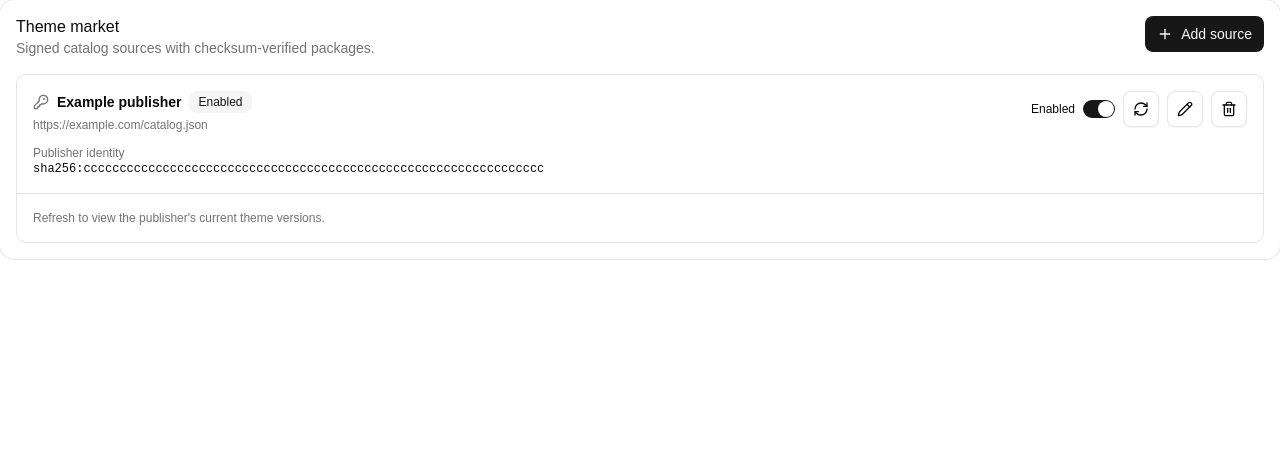
it: verified theme market › explains stale fallback and both expiration times
Click the button named "Refresh catalog": (1141,109) x1=1123 y1=91 x2=1159 y2=127
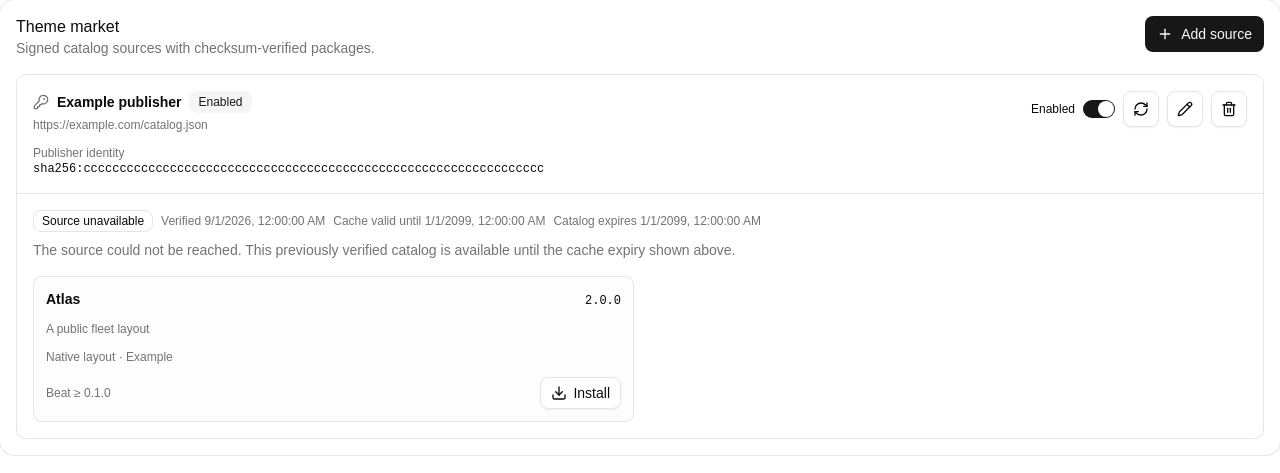
Check: the text "Source unavailable" is shown, box x1=33 y1=210 x2=153 y2=232
Check: the message shows "previously verified catalog", box x1=33 y1=242 x2=736 y2=258
Check: the text "Cache valid until 1/1/2099, 12:00:00 AM" is shown, box x1=333 y1=213 x2=545 y2=229
